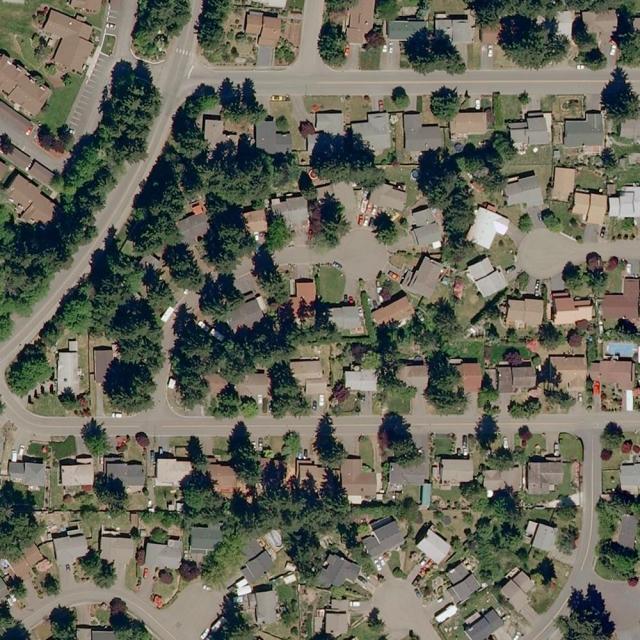greenland: (0, 51, 194, 332), (48, 228, 159, 352), (124, 150, 192, 260), (103, 297, 166, 414), (207, 135, 274, 206)
